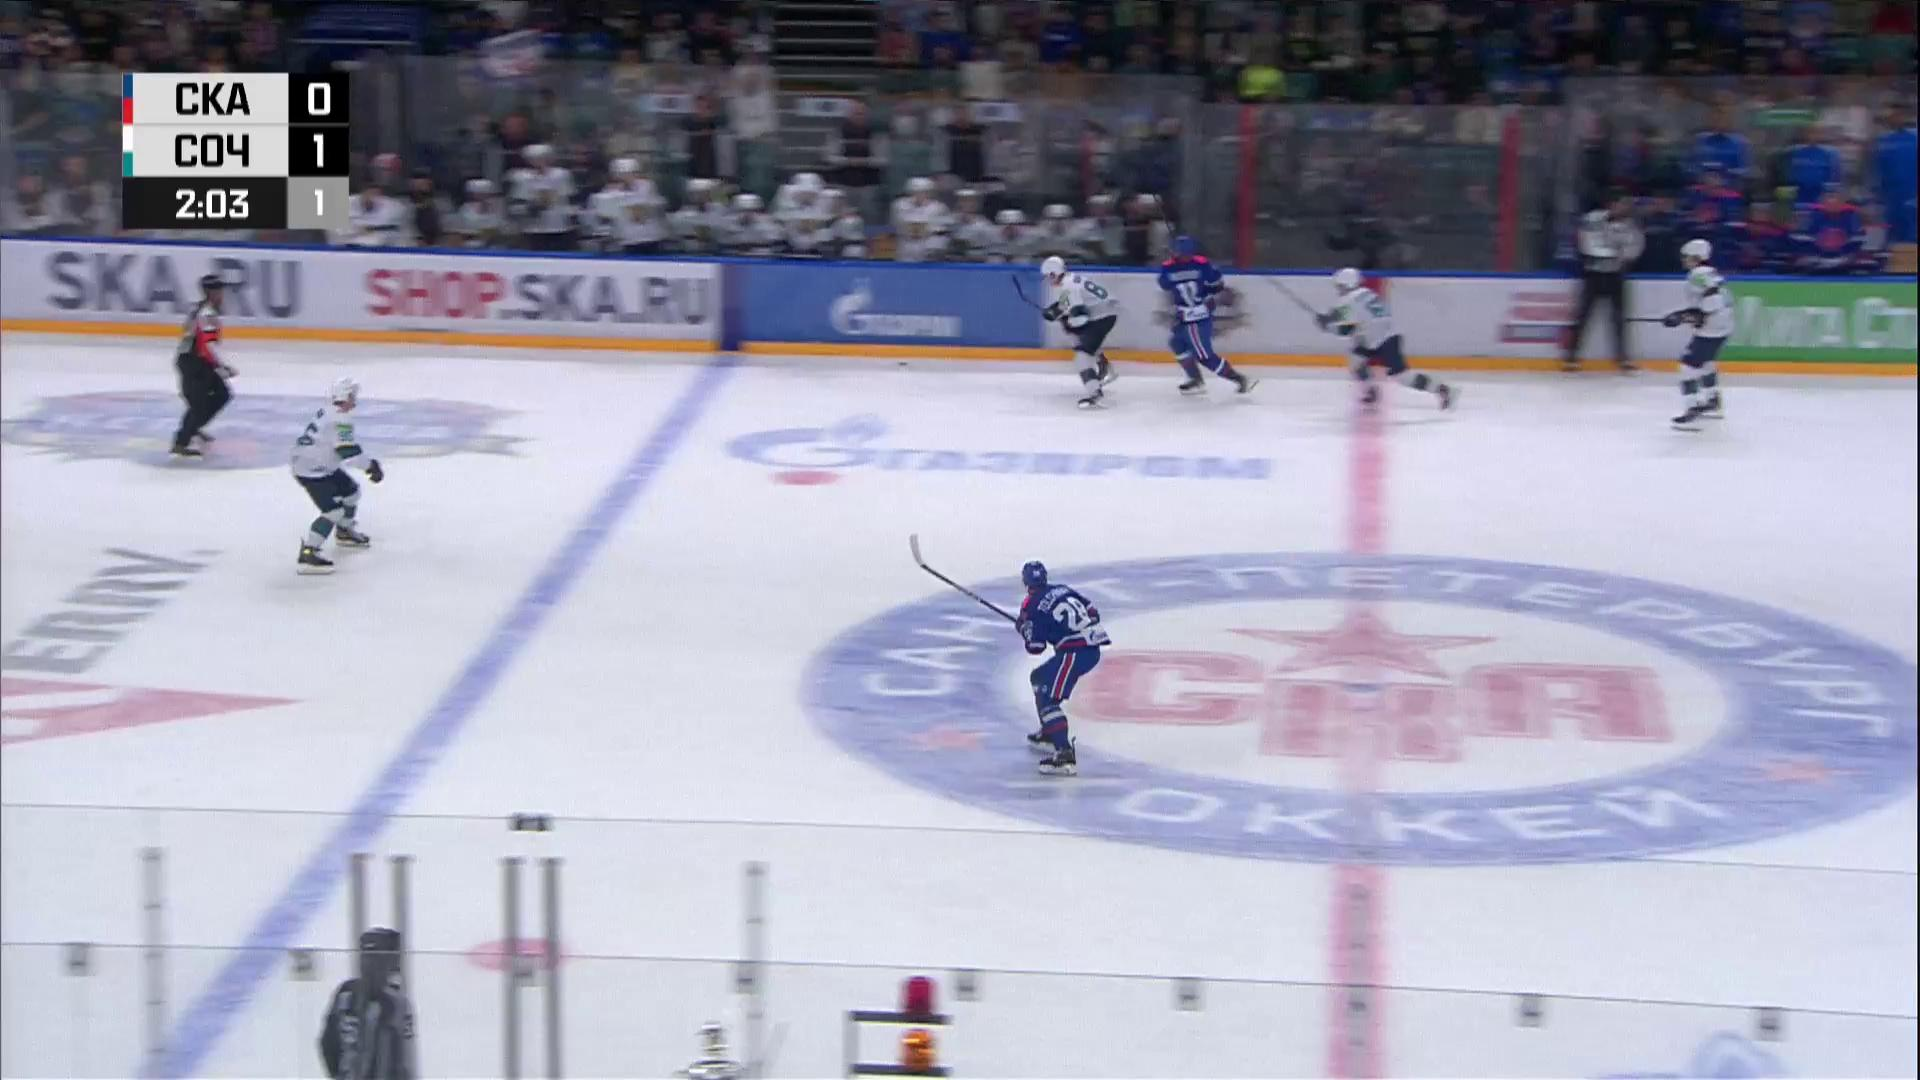ball: (898, 361, 909, 365)
